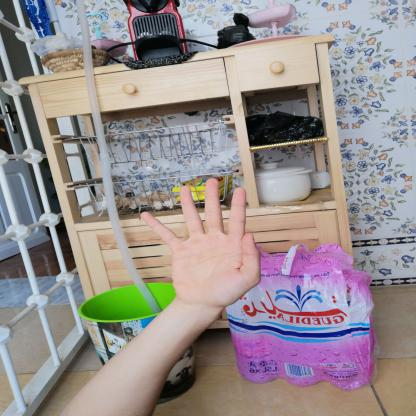SHEEN: (130, 172, 270, 314)
